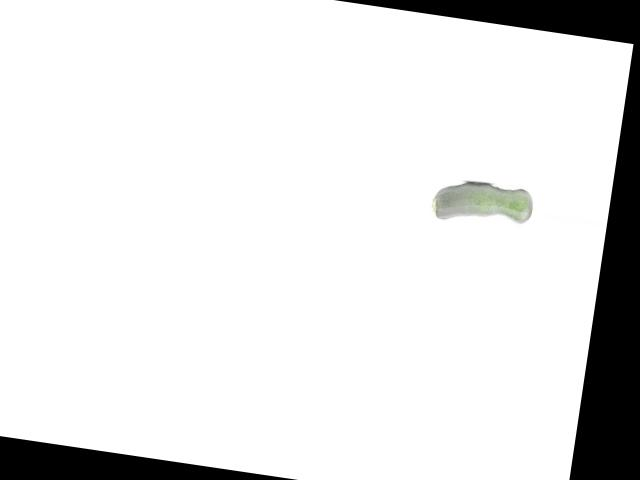cucumber: (429, 175, 534, 232)
